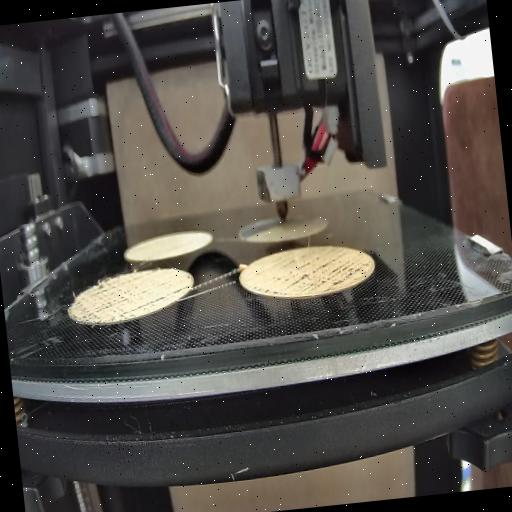under_extrusion: (72, 272, 192, 320), (250, 252, 372, 298)
